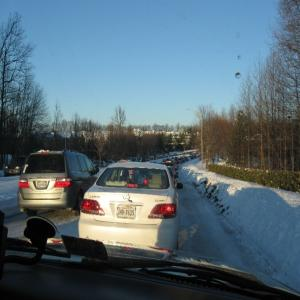Vehicle-registration-plate: (117, 206, 137, 220), (37, 182, 47, 189)
